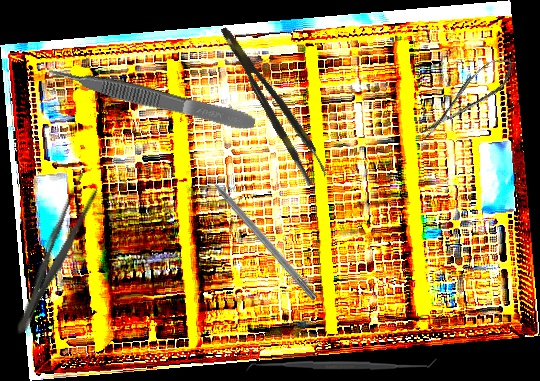Dressing Forceps: (6, 166, 106, 341)
Hook Surgical: (198, 164, 320, 302)
Micro Scissor: (413, 50, 521, 145)
Spatula Surgical: (245, 353, 438, 377)
Tissue Forceps: (217, 18, 331, 187), (46, 58, 258, 136)
